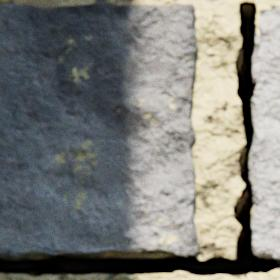brick: (0, 3, 199, 259), (249, 8, 279, 259)
crack: (0, 1, 279, 279)
